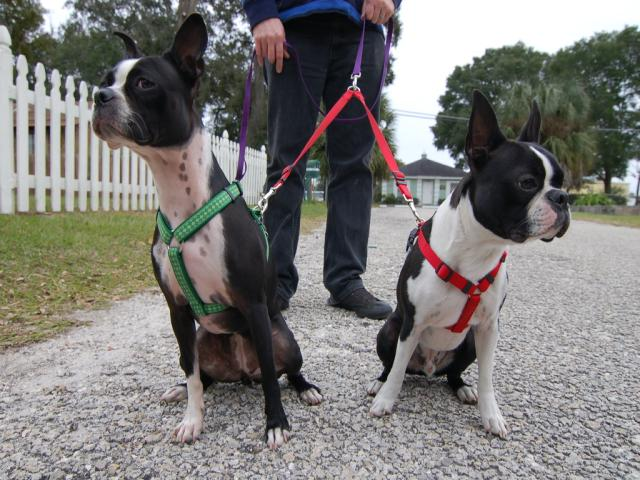Dog: (90, 12, 324, 450), (364, 88, 572, 439)
